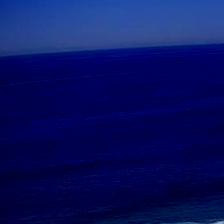surfer: (128, 220, 134, 223)
